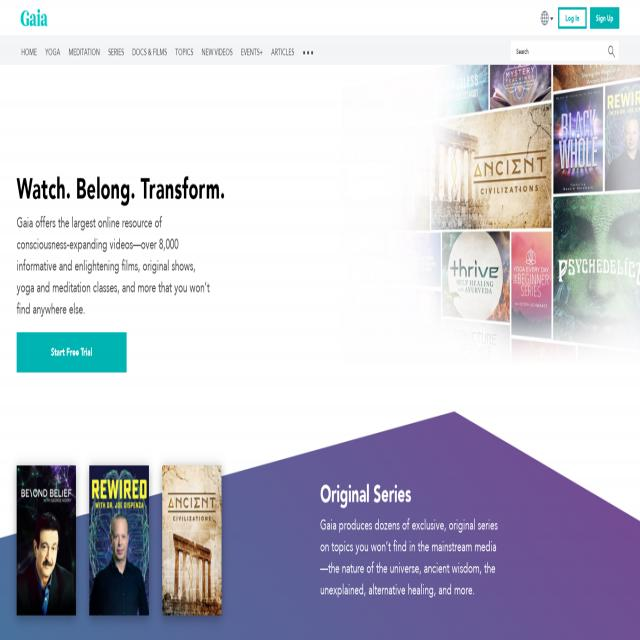button: (162, 464, 222, 616), (16, 465, 76, 616), (89, 465, 148, 616), (17, 332, 127, 373), (132, 36, 167, 61), (68, 36, 100, 61), (202, 36, 232, 61), (590, 7, 619, 29), (558, 7, 586, 29), (271, 36, 294, 61), (241, 36, 263, 61), (20, 9, 48, 26), (299, 34, 316, 62), (175, 36, 193, 61), (108, 36, 124, 61), (21, 36, 37, 61), (46, 36, 60, 61), (541, 11, 549, 25), (609, 46, 615, 58)
field: (511, 42, 619, 62)
